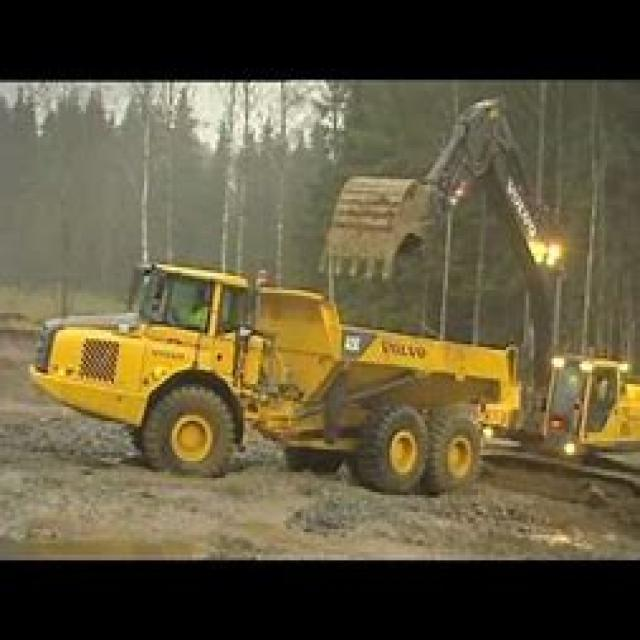dump_truck: (33, 250, 564, 498)
